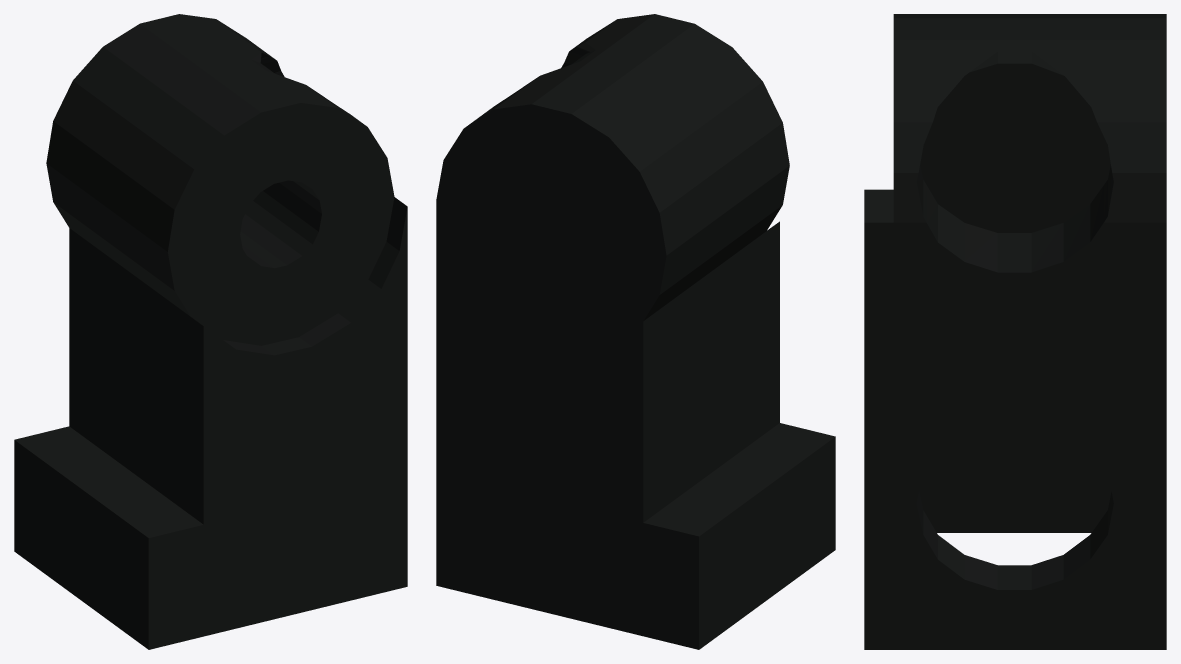
File: LeoDart_right_leg.obj
The picture shows the model from 3 angles, left to right: view 1: azimuth 30°, elevation 25°; view 2: azimuth 150°, elevation 25°; view 3: azimuth 270°, elevation 25°; orthographic projection. The views are drawn at different scales.
Visible parts, largest first — view 1: Leg1; view 2: Leg1; view 3: Leg1.
Part boxes in pixels (<box>): Leg1: <box>14,14,407,649</box>; Leg1: <box>436,14,835,649</box>; Leg1: <box>864,14,1166,649</box>.
Bounding box in the file's own units: 0.8001 × 1.47 × 0.72.
Materials: 1 (1 with a texture image).
